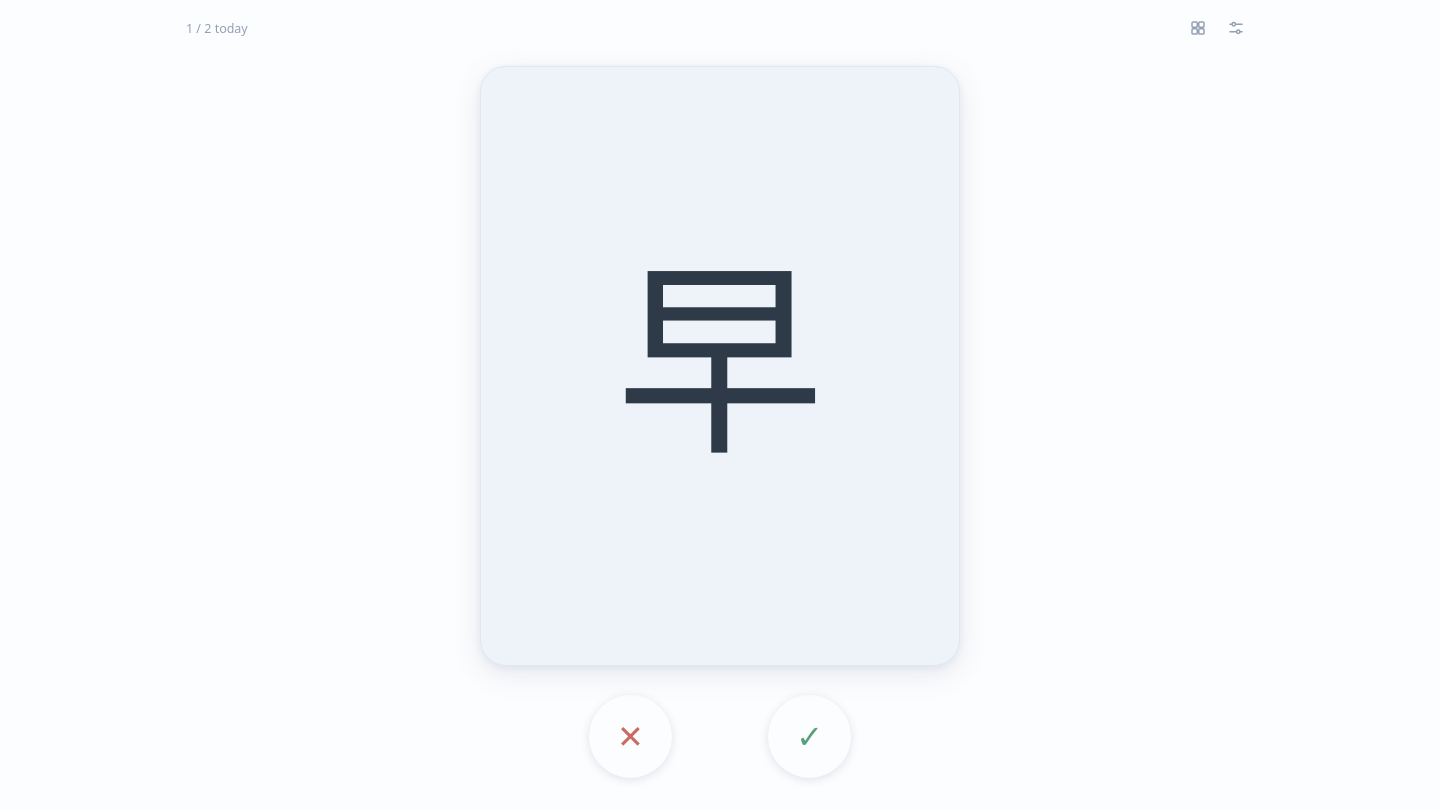
Test: desktop layout › moves the controls out of the card into the control bar
The width and height of the screenshot is (1440, 810).
check → confirm still advances the day from the bar
Click the button named "I know this" at (810,736), box x1=768 y1=695 x2=851 y2=778
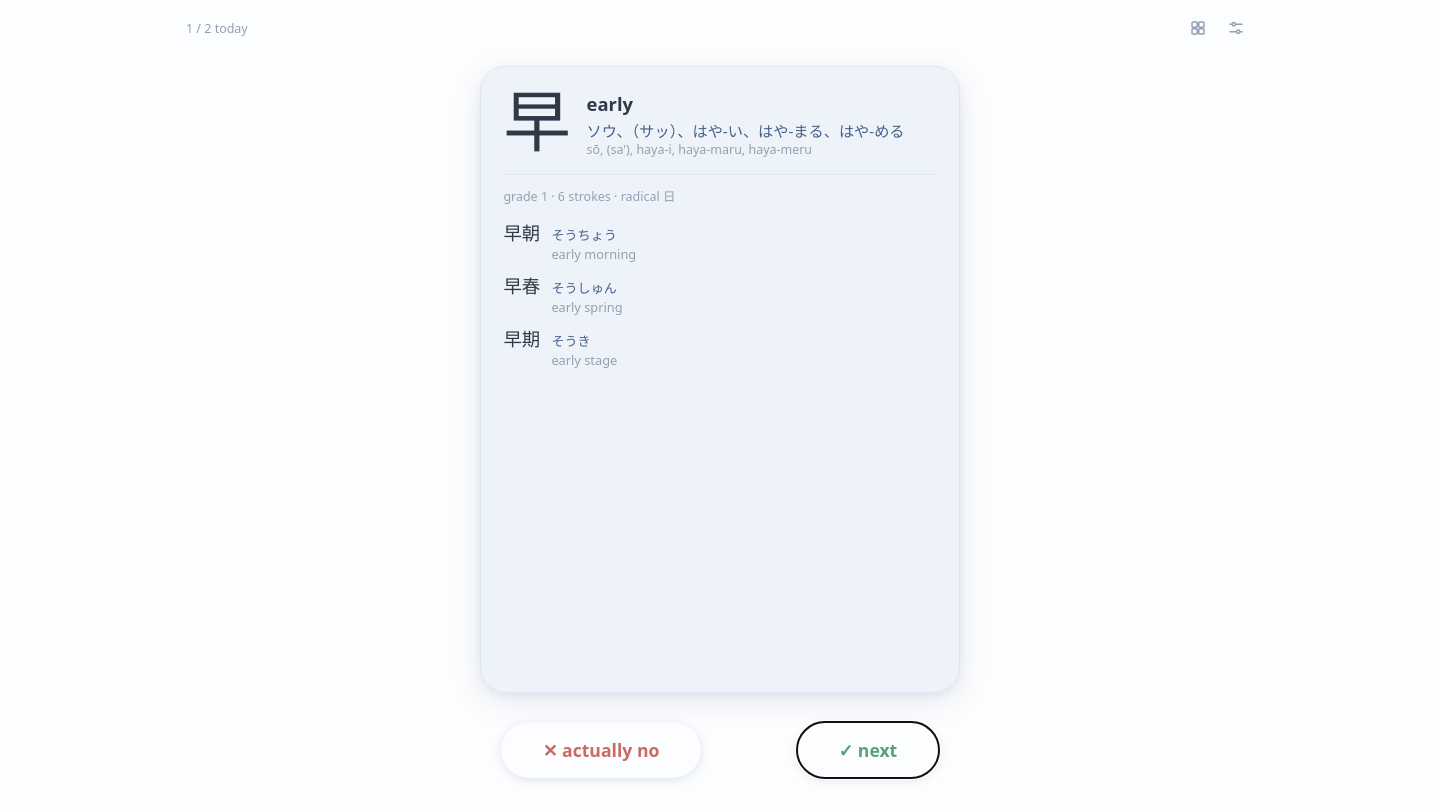
Click the button "✓ next" at (868,750), box x1=797 y1=722 x2=939 y2=778
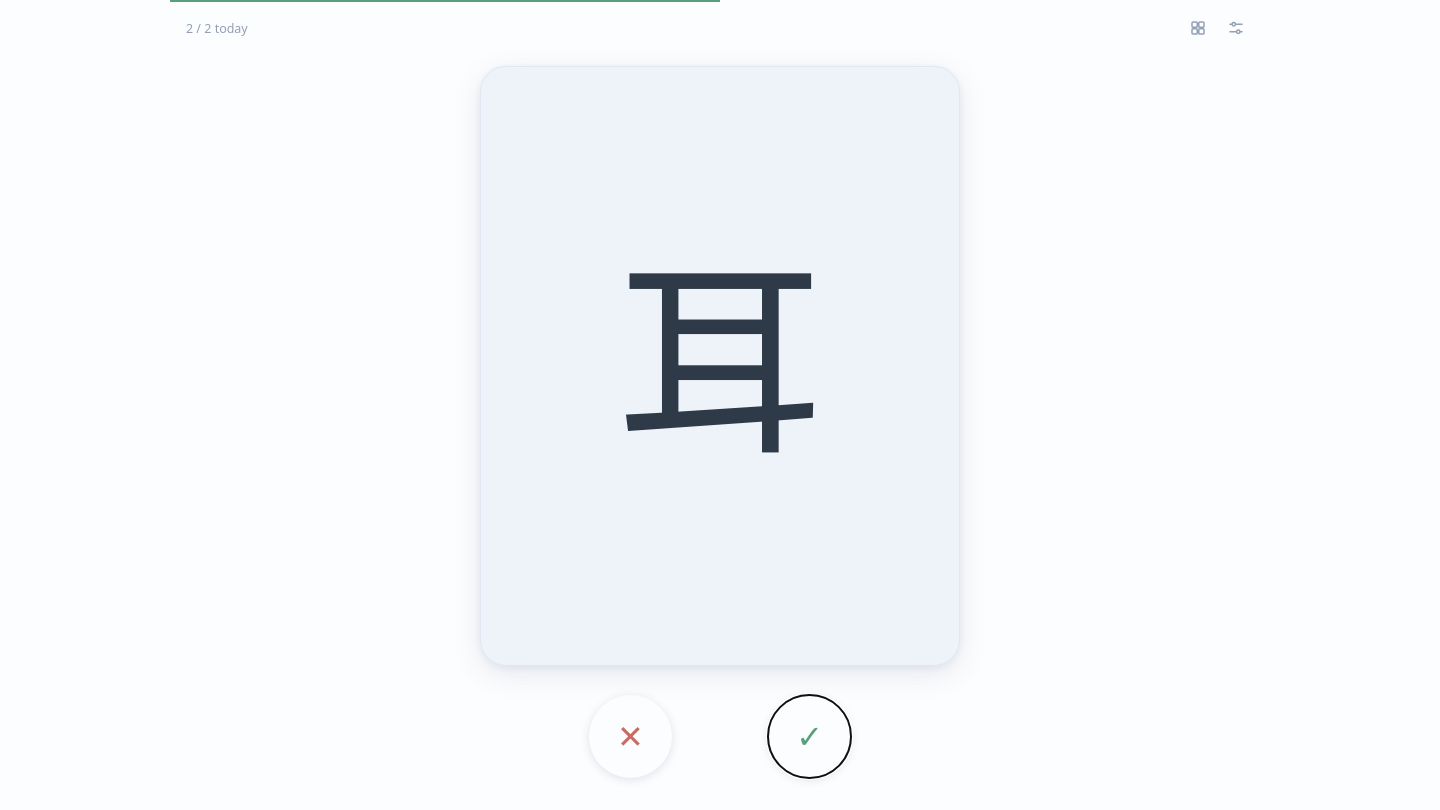
Result: the text "2 / 2 today" is shown at x1=186 y1=20 x2=248 y2=37
